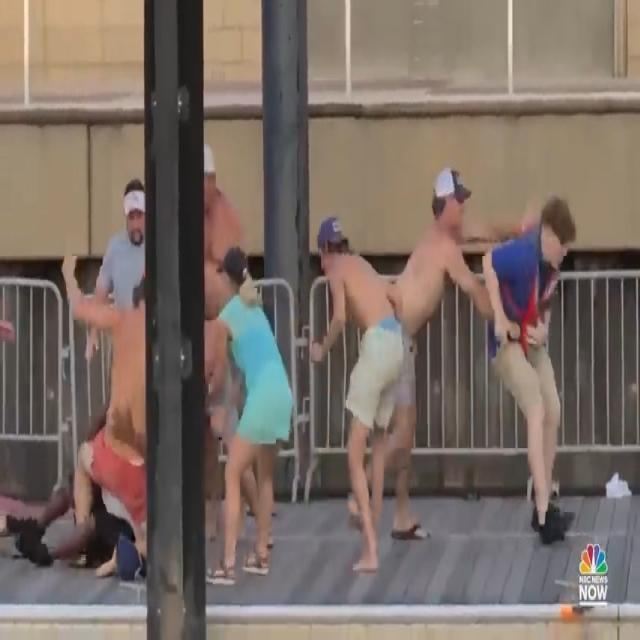fight: (3, 141, 295, 587), (389, 153, 583, 556)
